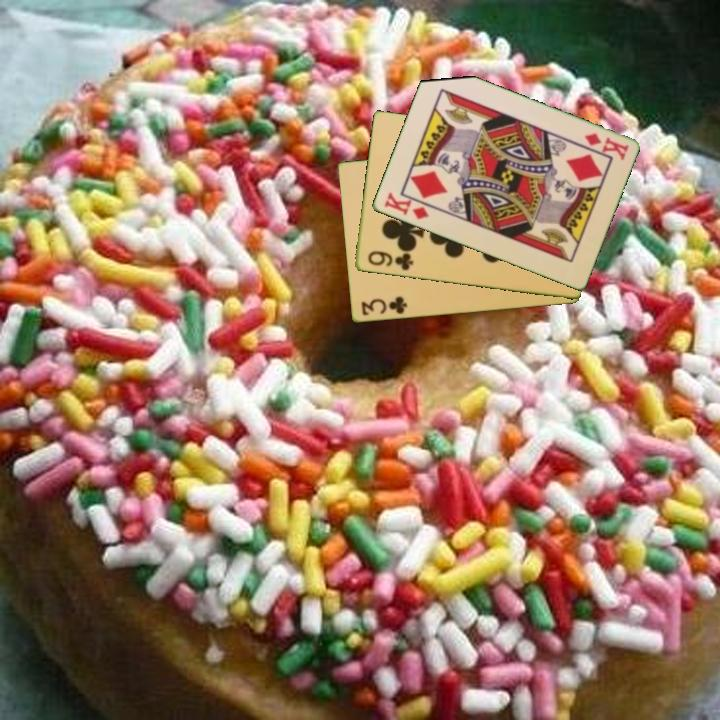3c: (358, 293, 410, 318)
9c: (364, 248, 416, 274)
Kd: (380, 189, 432, 223), (580, 129, 631, 162)
